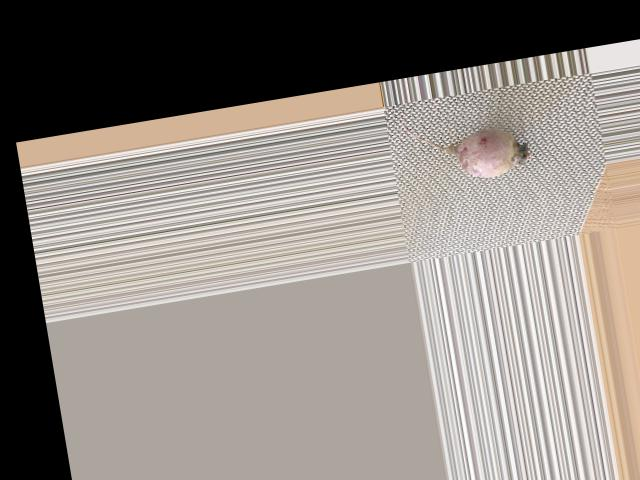beet: (401, 103, 535, 189)
